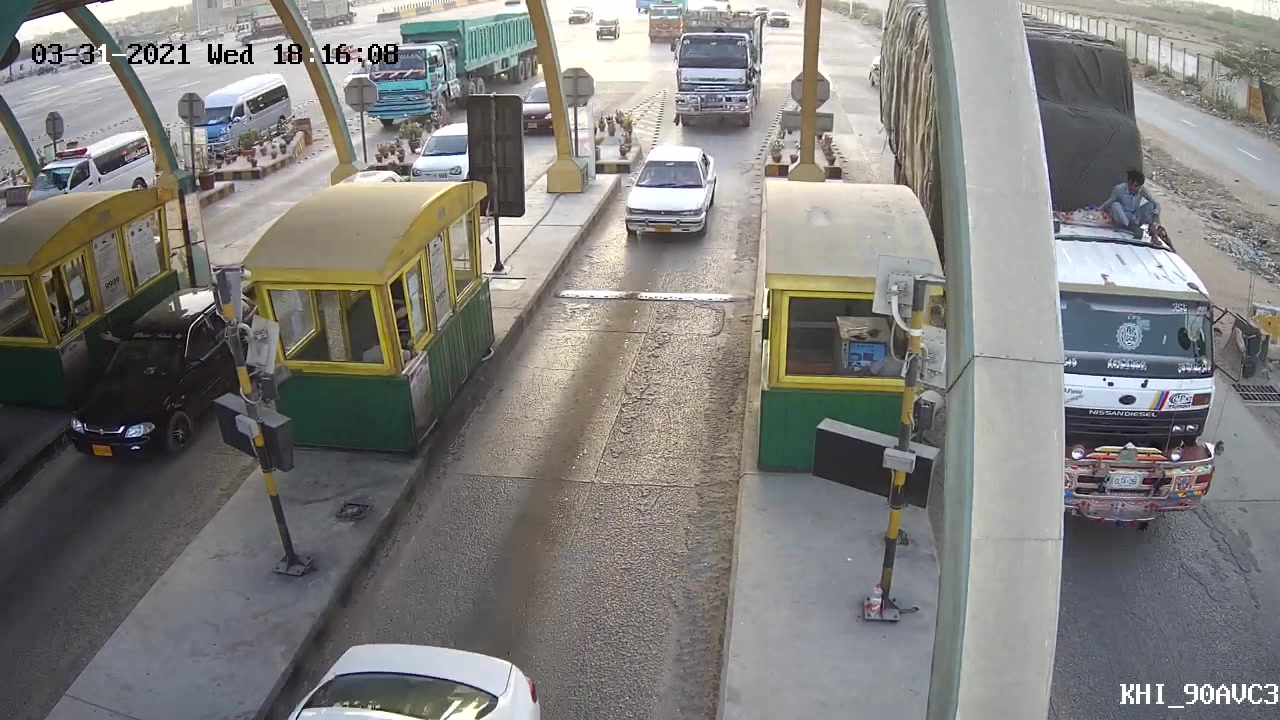F1: (612, 143, 722, 239)
